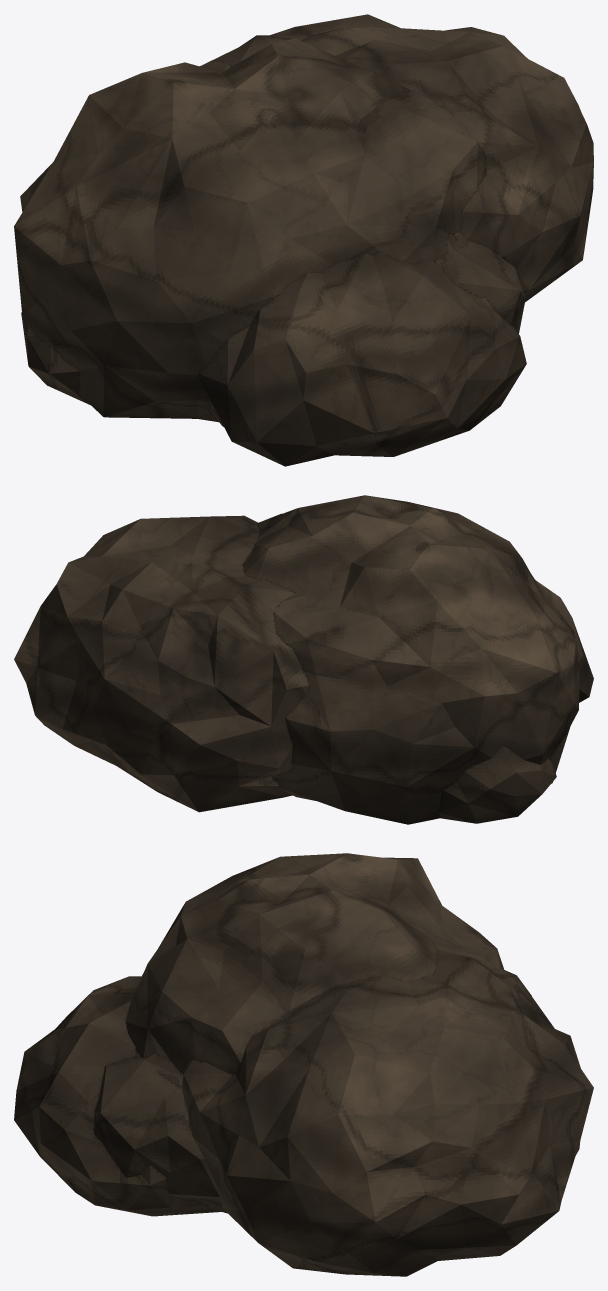
File: mine_rocks_a.glb
3 renders of one model, top to bottom at view 1: azimuth 30°, elevation 25°; view 2: azimuth 150°, elevation 25°; view 3: azimuth 270°, elevation 25°, orthographic. The views are drawn at different scales.
Visible parts, largest first — view 1: mine_rocks_a; view 2: mine_rocks_a; view 3: mine_rocks_a.
Boxes of the visible parts, x1,y1,x2,y2 form: mine_rocks_a: [14, 14, 593, 466]; mine_rocks_a: [14, 495, 593, 824]; mine_rocks_a: [14, 853, 593, 1276].
Bounding box in the file's own units: 1.44 × 0.6922 × 1.31.
1 material, 1 textured.
